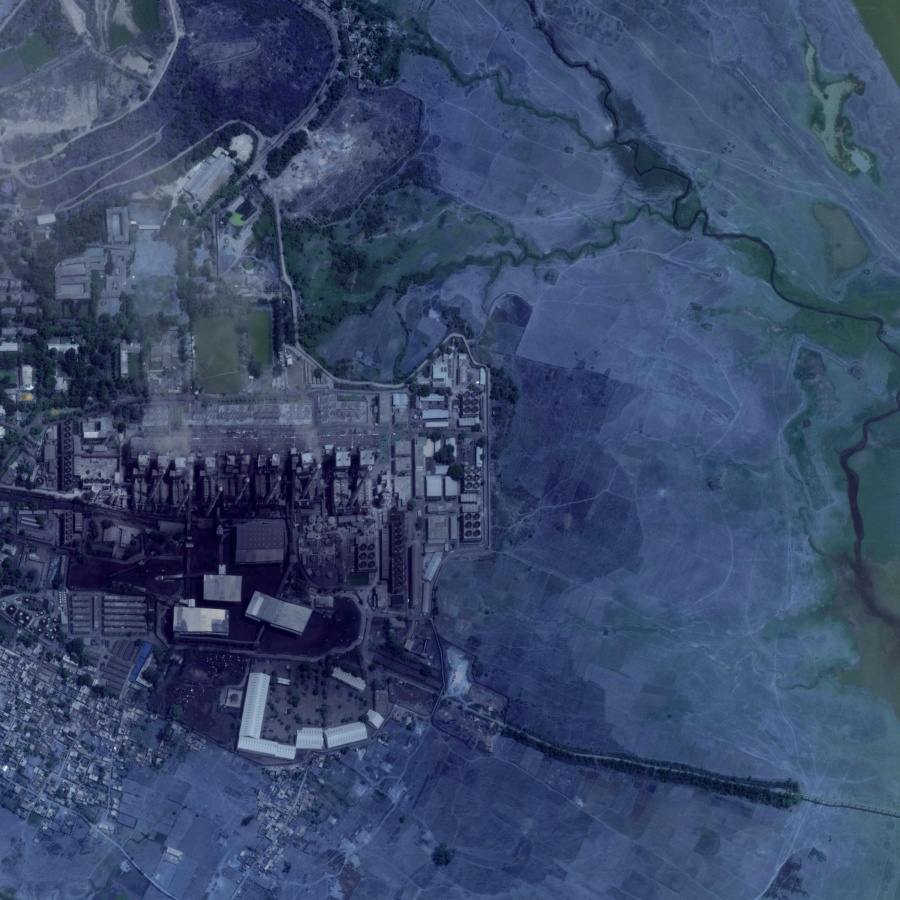PowerPlant: (68, 315, 491, 665)
